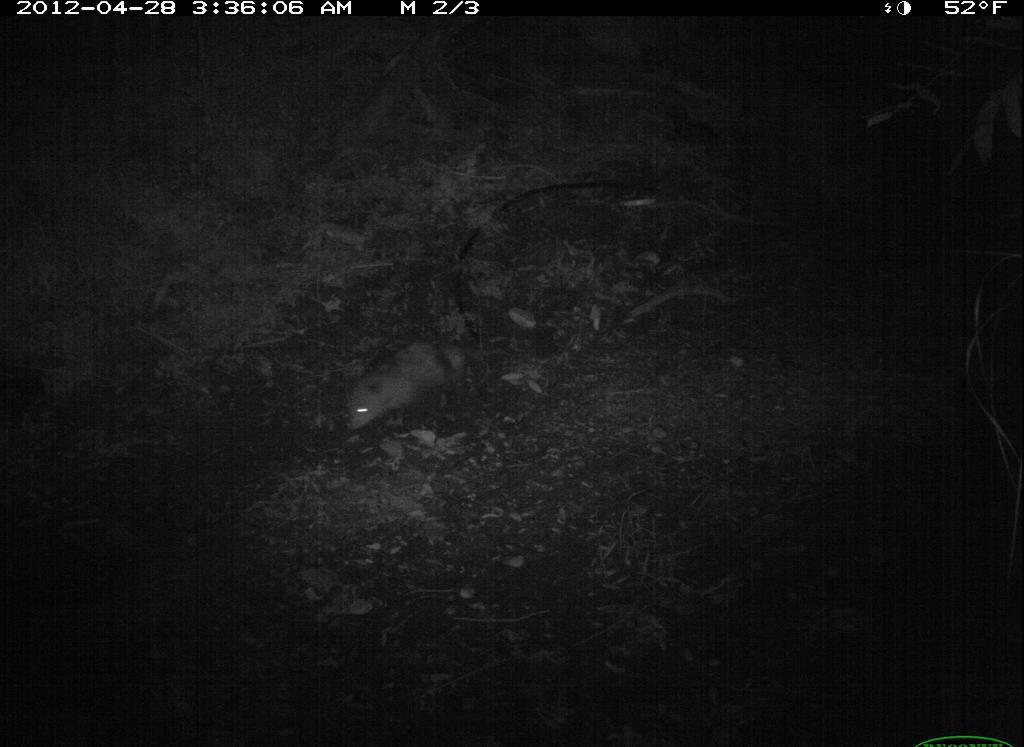opossum: (343, 335, 514, 434)
